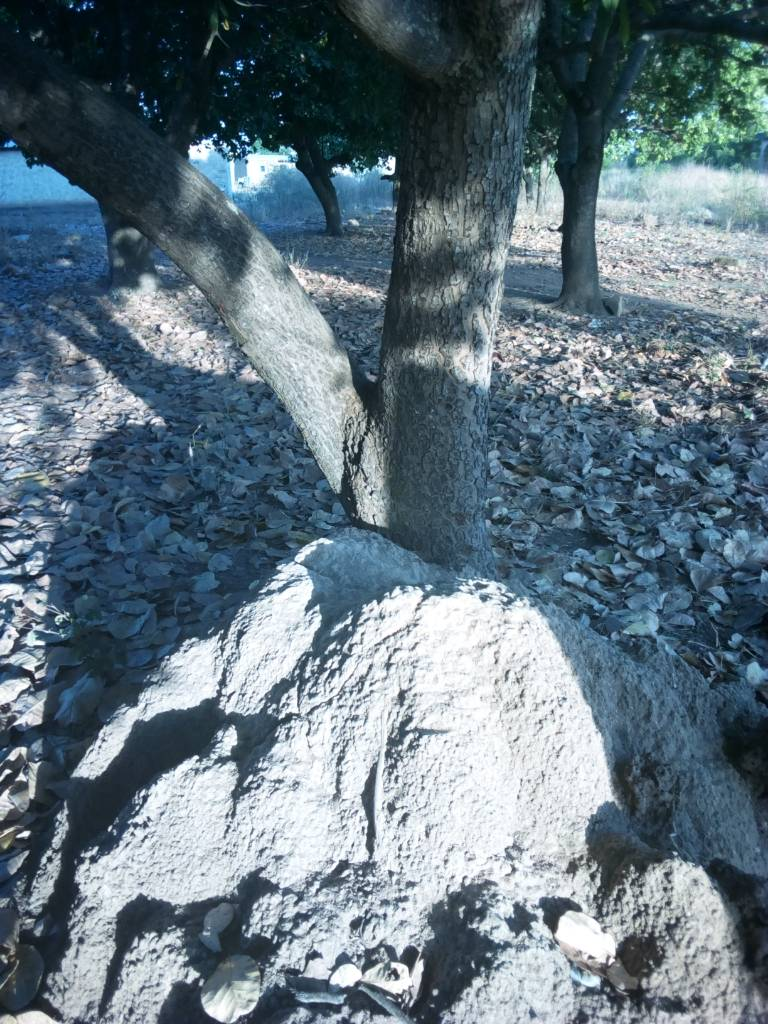Termites: (252, 574, 533, 967), (546, 613, 719, 1024), (66, 655, 230, 1024)
